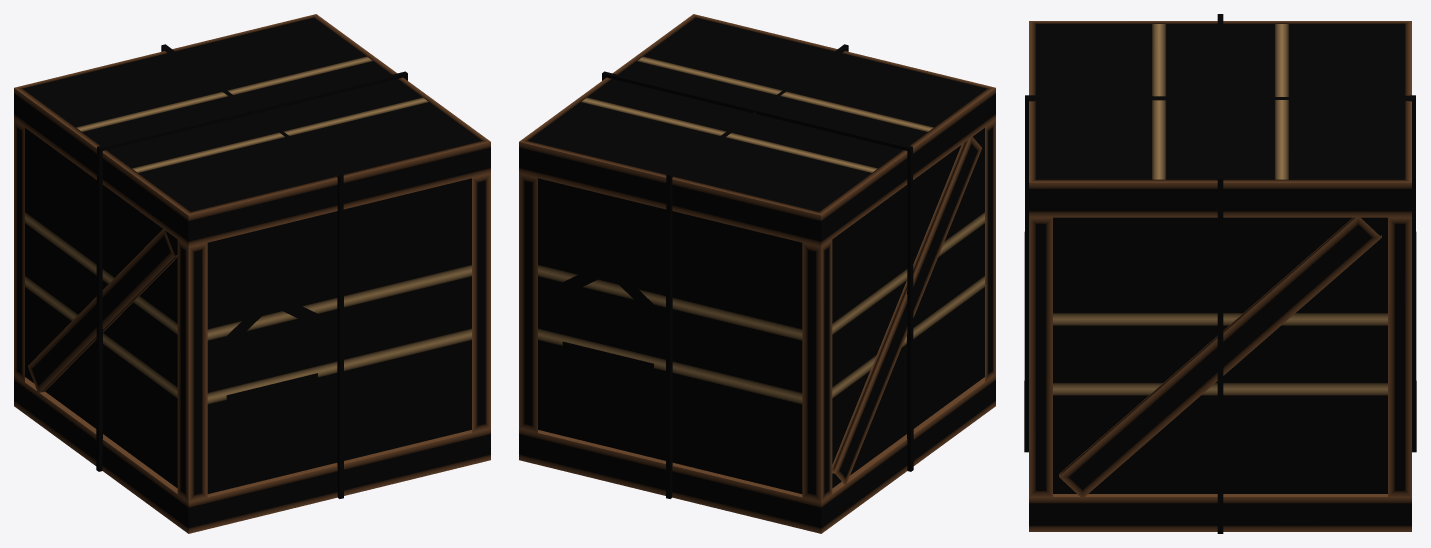
Rendered from crate.glb.
3 renders of one model, left to right at view 1: azimuth 30°, elevation 25°; view 2: azimuth 150°, elevation 25°; view 3: azimuth 270°, elevation 25°, orthographic. The views are drawn at different scales.
Parts seen in each view (by area): view 1: body, battens, lashing, stencils; view 2: body, battens, lashing, stencils; view 3: body, battens, lashing.
Boxes of the visible parts, x1=… form: body: x1=23, y1=18, x2=481, y2=493; battens: x1=14, y1=14, x2=490, y2=533; lashing: x1=96, y1=44, x2=407, y2=498; stencils: x1=223, y1=292, x2=321, y2=409; body: x1=528, y1=18, x2=986, y2=493; battens: x1=519, y1=14, x2=995, y2=533; lashing: x1=602, y1=44, x2=913, y2=498; stencils: x1=559, y1=260, x2=657, y2=377; body: x1=1036, y1=24, x2=1404, y2=493; battens: x1=1029, y1=21, x2=1411, y2=531; lashing: x1=1024, y1=14, x2=1416, y2=533.
Size of the model in its own units: 0.8143 by 0.812 by 0.8143.
